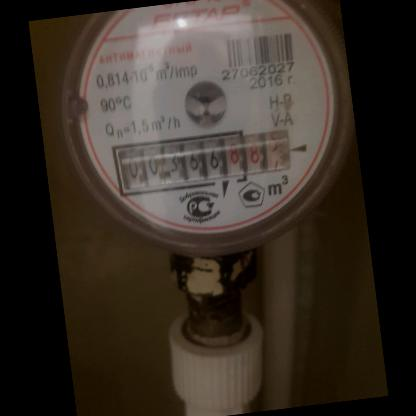digital_screen: (107, 127, 231, 198)
